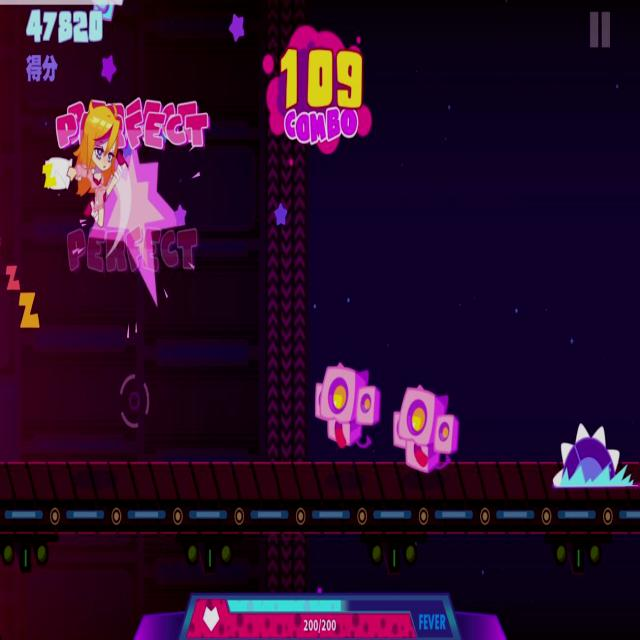ci: (552, 422, 640, 492)
jiqi: (388, 379, 464, 481), (314, 357, 381, 451)
